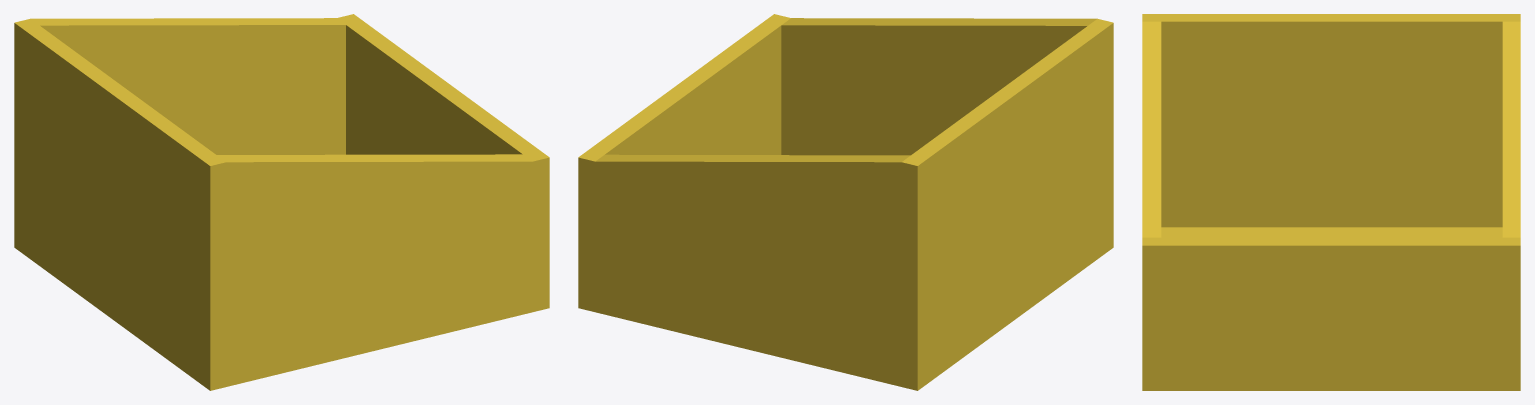
The model's file is yellow_target.dae.
The picture shows the model from 3 angles, left to right: view 1: azimuth 30°, elevation 25°; view 2: azimuth 150°, elevation 25°; view 3: azimuth 270°, elevation 25°; orthographic projection. The views are drawn at different scales.
Parts seen in each view (by area): view 1: Cube; view 2: Cube; view 3: Cube.
Part boxes in pixels (x1,y1,x2,y2): Cube: (14,14,549,390); Cube: (578,14,1113,390); Cube: (1142,14,1520,390).
Bounding box in the file's own units: 0.6 × 0.6 × 0.3797.
